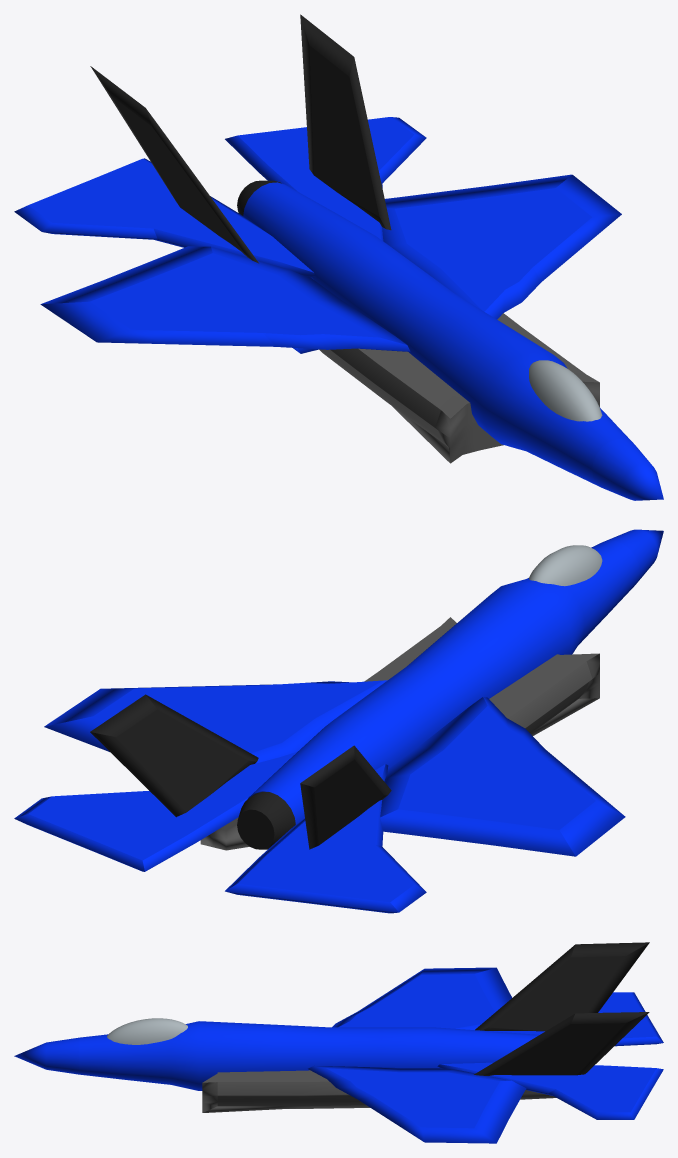
File: sentouki3.obj
The picture shows the model from 3 angles, top to bottom: view 1: azimuth 30°, elevation 25°; view 2: azimuth 150°, elevation 25°; view 3: azimuth 270°, elevation 25°; orthographic projection. The views are drawn at different scales.
Visible parts, largest first — view 1: pCube2, pCylinder2, pCube9, pCube10, pCube3, pCube8, pCube11, pSphere1; view 2: pCube2, pCylinder2, pCube8, pCube9, pCube10, pCube3, pCube11, pCylinder1, pSphere1; view 3: pCylinder2, pCube2, pCube11, pCube10, pCube3, pCube8, pCube9, pSphere1.
Part boxes in pixels (x1,y1,x2,y2): pCube2: (40, 174, 621, 351); pCylinder2: (243, 182, 663, 500); pCube9: (14, 158, 315, 279); pCube10: (300, 14, 391, 230); pCube3: (319, 313, 599, 463); pCube8: (225, 117, 426, 240); pCube11: (90, 66, 258, 263); pSphere1: (529, 360, 602, 421); pCube2: (44, 680, 625, 856); pCylinder2: (247, 529, 663, 824); pCube8: (14, 751, 297, 871); pCube9: (225, 764, 426, 913); pCube10: (90, 694, 258, 817); pCube3: (200, 617, 599, 850); pCube11: (300, 745, 391, 849); pCylinder1: (237, 791, 295, 849); pSphere1: (529, 545, 602, 586); pCylinder2: (14, 1021, 538, 1090); pCube2: (308, 967, 526, 1143); pCube11: (475, 942, 649, 1031); pCube10: (474, 1012, 649, 1075); pCube3: (202, 1070, 556, 1112); pCube8: (437, 1062, 663, 1119); pCube9: (489, 992, 663, 1046); pSphere1: (107, 1018, 187, 1044).
Size of the model in its own units: 12.56 by 3.83 by 19.59.
